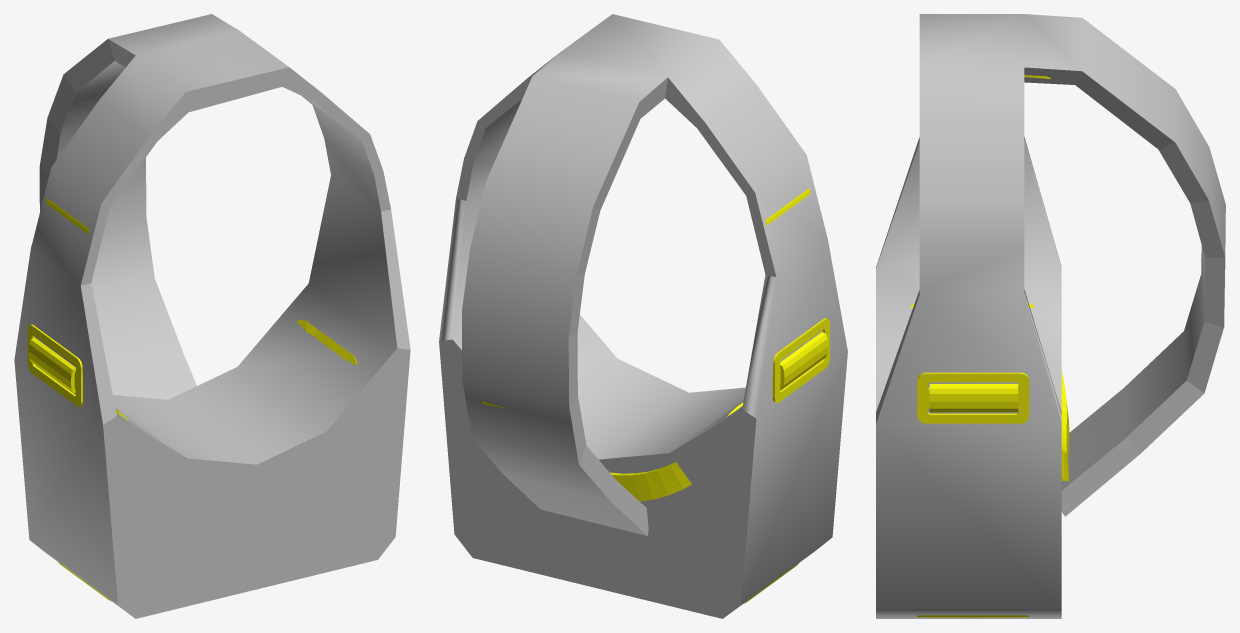
File: sm_hana_media_installation.glb
The picture shows the model from 3 angles, left to right: view 1: azimuth 30°, elevation 25°; view 2: azimuth 150°, elevation 25°; view 3: azimuth 270°, elevation 25°; orthographic projection. The views are drawn at different scales.
Parts seen in each view (by area): view 1: sm_color_common, sm_hana_media_installation; view 2: sm_color_common, sm_hana_media_installation; view 3: sm_color_common, sm_hana_media_installation.
Part boxes in pixels (x1,y1,x2,y2): sm_color_common: (14, 14, 410, 618); sm_hana_media_installation: (27, 198, 356, 601); sm_color_common: (439, 14, 847, 618); sm_hana_media_installation: (481, 188, 829, 603); sm_color_common: (876, 14, 1225, 618); sm_hana_media_installation: (909, 75, 1069, 617).
Size of the model in its own units: 0.5458 by 0.7998 by 0.49.
Materials: 2 (1 with a texture image).
